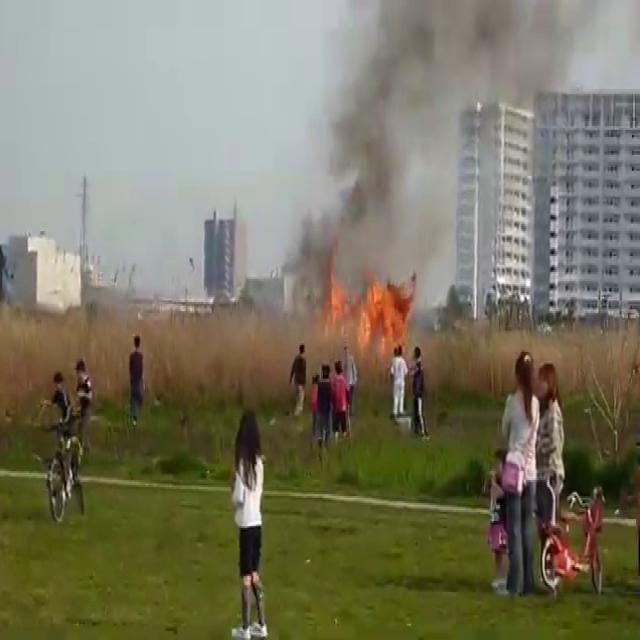Fire: (317, 266, 413, 348)
Smoke: (280, 0, 576, 313)
